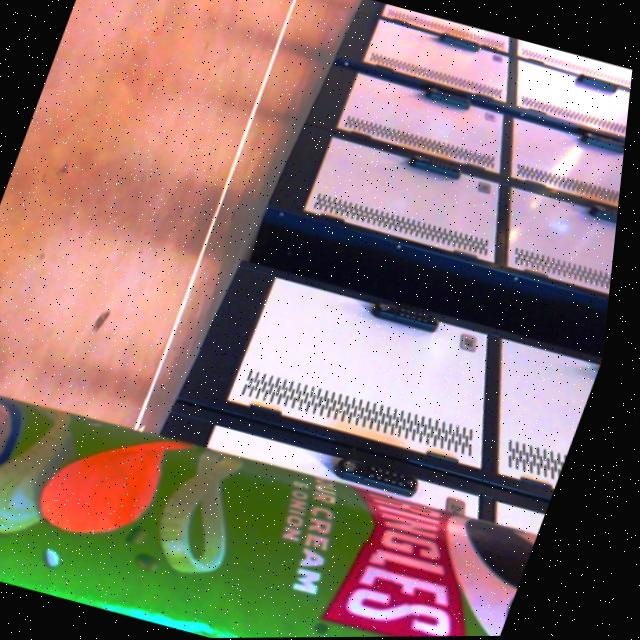greenpringles: (0, 345, 571, 640)
